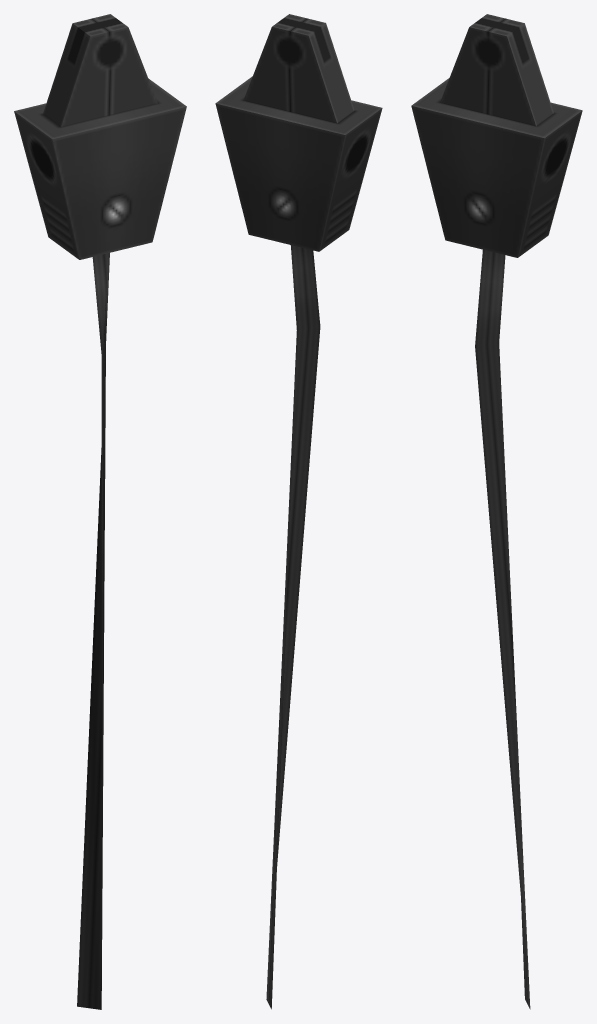
Rendered from jsf_LanternCord.fbx.
3 renders of one model, left to right at view 1: azimuth 30°, elevation 25°; view 2: azimuth 150°, elevation 25°; view 3: azimuth 330°, elevation 25°, orthographic. The views are drawn at different scales.
Visible parts, largest first — view 1: jsf_LanternCord; view 2: jsf_LanternCord; view 3: jsf_LanternCord.
Boxes of the visible parts, bbox=[...] form: jsf_LanternCord: bbox=[14, 14, 186, 1009]; jsf_LanternCord: bbox=[215, 14, 382, 1009]; jsf_LanternCord: bbox=[411, 14, 582, 1009].
Bounding box in the file's own units: 2.75 × 19.57 × 1.6.
